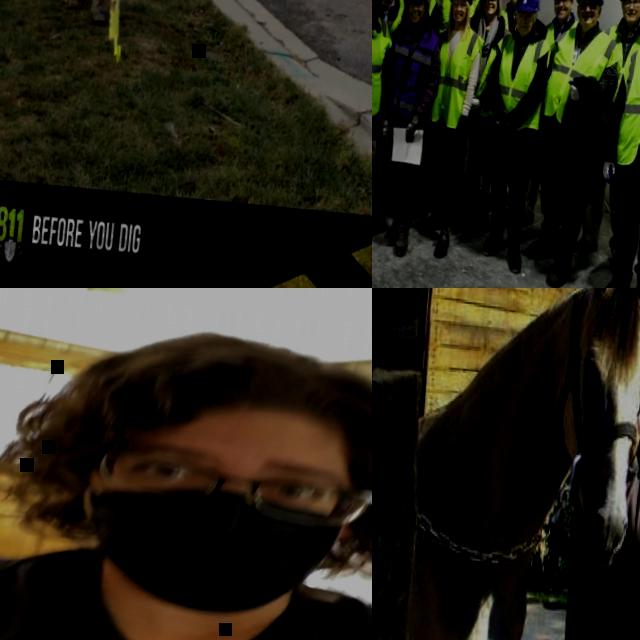helmet: (516, 0, 543, 13)
mask: (71, 478, 352, 622)
no_helmet: (58, 318, 372, 467)
no_mask: (578, 12, 598, 28), (516, 20, 532, 36), (409, 10, 425, 24), (452, 9, 467, 23), (555, 7, 571, 20), (484, 3, 498, 17), (626, 9, 640, 22), (509, 0, 522, 4)
no_vest: (0, 534, 372, 640), (593, 450, 640, 640)
person: (0, 303, 372, 640), (523, 0, 632, 288), (470, 0, 558, 275), (372, 0, 451, 259), (418, 0, 490, 261), (574, 0, 640, 273), (413, 0, 490, 202), (587, 0, 640, 288), (451, 0, 514, 242), (519, 0, 582, 225), (478, 0, 534, 225), (378, 0, 428, 200), (372, 0, 414, 225), (372, 0, 401, 266)
vest: (544, 23, 626, 131), (489, 30, 553, 135), (432, 26, 487, 132), (386, 22, 444, 122), (592, 18, 640, 125), (474, 23, 514, 120), (614, 35, 640, 178), (372, 7, 397, 121), (543, 16, 579, 68), (430, 0, 483, 34), (375, 0, 406, 35), (397, 0, 441, 19), (500, 8, 519, 33)
